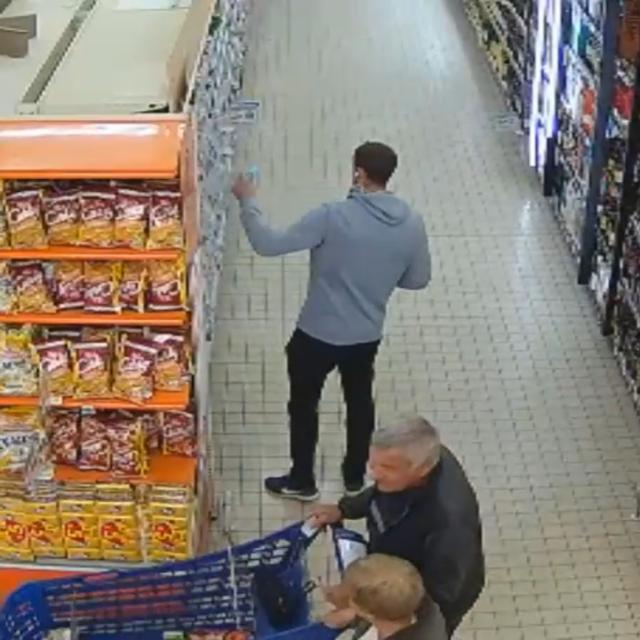article: (243, 163, 262, 187)
hands: (321, 607, 356, 629), (308, 505, 343, 527), (323, 585, 349, 609), (232, 175, 256, 201)
person: (233, 143, 431, 500), (313, 418, 485, 635), (325, 554, 448, 639)
